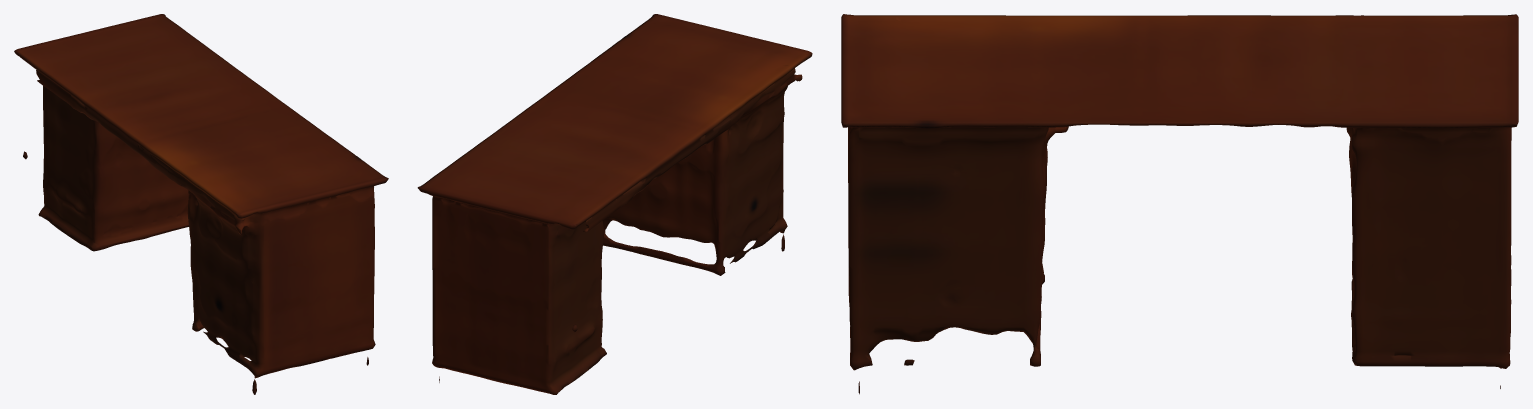
The model's file is Light wooden desk with five narrow drawers either .glb.
3 views of the same model, side by side, from view 1: azimuth 30°, elevation 25°; view 2: azimuth 150°, elevation 25°; view 3: azimuth 270°, elevation 25° (orthographic). The views are drawn at different scales.
Parts seen in each view (by area): view 1: Light wooden desk with five narrow drawers either; view 2: Light wooden desk with five narrow drawers either; view 3: Light wooden desk with five narrow drawers either.
Part boxes in pixels (left/top/right/bottom): Light wooden desk with five narrow drawers either: left=14, top=14, right=388, bottom=394; Light wooden desk with five narrow drawers either: left=417, top=14, right=812, bottom=394; Light wooden desk with five narrow drawers either: left=841, top=14, right=1518, bottom=394.
Size of the model in its own units: 0.7651 by 0.9224 by 1.98.
